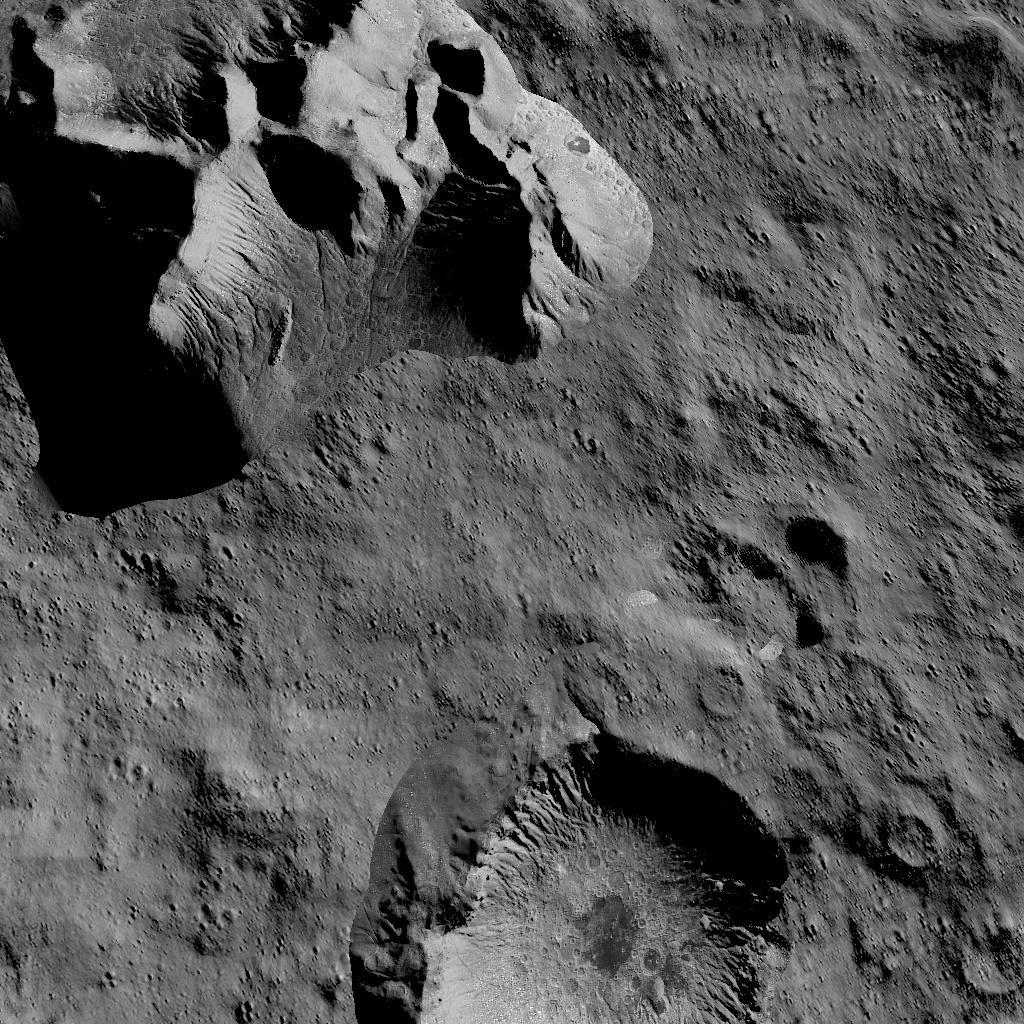Boulders: (0, 0, 660, 507)
Crater: (372, 723, 864, 1021), (766, 508, 868, 658)
Plan surface: (0, 522, 360, 1024), (680, 4, 1024, 480), (402, 516, 654, 713)
